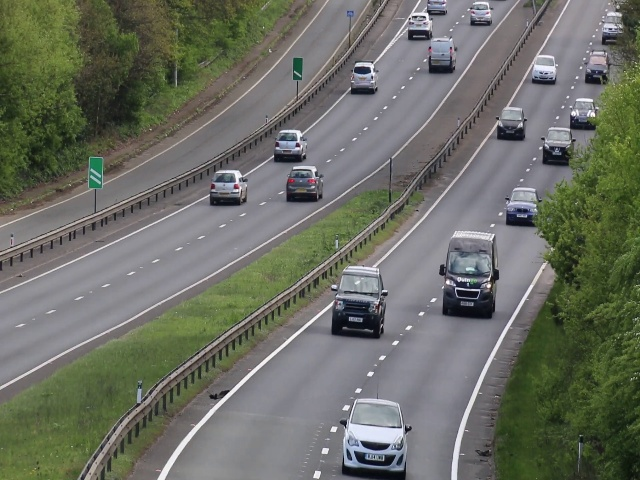car: (340, 394, 413, 477), (442, 232, 498, 318), (333, 265, 386, 340), (209, 166, 250, 206), (284, 165, 324, 202), (540, 124, 572, 165), (427, 37, 458, 73), (506, 187, 534, 226), (347, 60, 380, 93), (273, 129, 307, 161), (495, 106, 526, 139), (405, 9, 433, 40), (586, 46, 608, 85), (532, 53, 558, 84), (569, 99, 596, 128), (467, 1, 495, 25), (601, 13, 620, 41), (426, 1, 448, 14)
